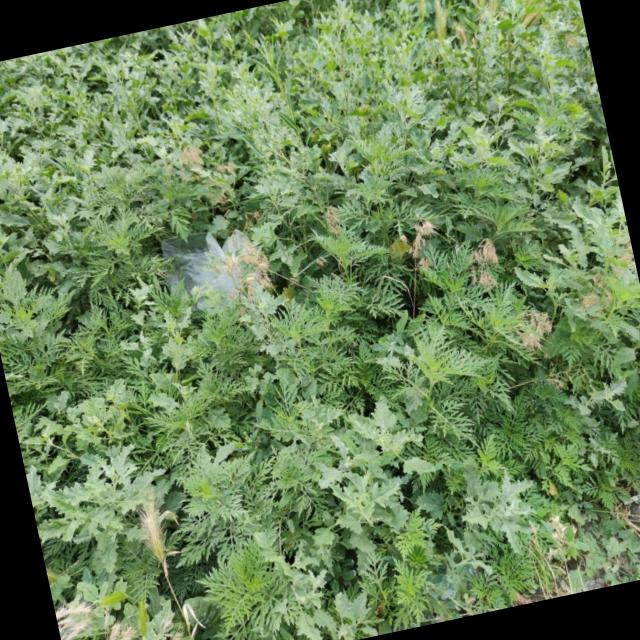ambrosia: (362, 226, 562, 482), (163, 418, 381, 640), (18, 124, 262, 297), (0, 264, 90, 386)
